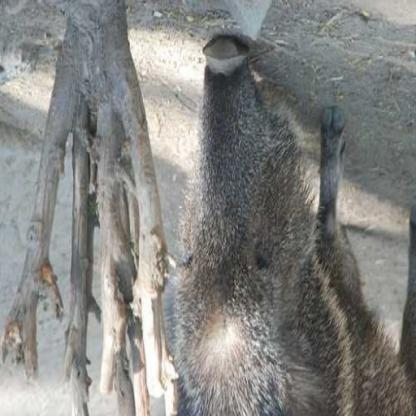boar: (135, 18, 415, 416)
